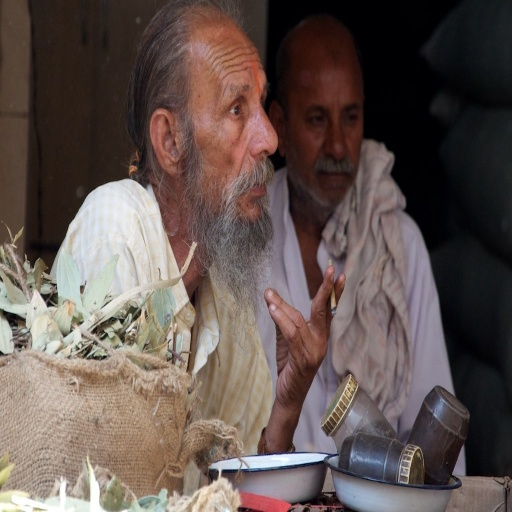hand: (265, 268, 341, 434)
